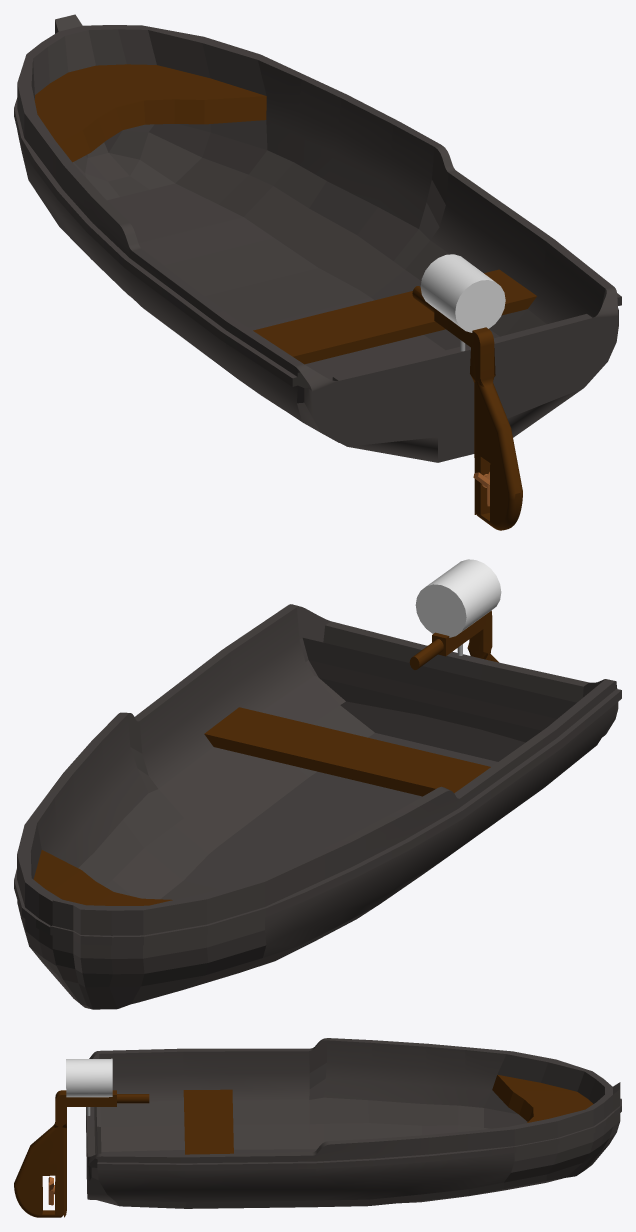
Rendered from Boot 1.fbx.
3 renders of one model, top to bottom at view 1: azimuth 30°, elevation 25°; view 2: azimuth 150°, elevation 25°; view 3: azimuth 270°, elevation 25°, orthographic. The views are drawn at different scales.
Visible parts, largest first — view 1: pCube3, pCube9; view 2: pCube3, pCube9; view 3: pCube3, pCube9.
Part boxes in pixels (left/top/right/bottom): pCube3: left=14, top=14, right=621, bottom=462; pCube9: left=412, top=254, right=522, bottom=530; pCube3: left=14, top=604, right=621, bottom=1009; pCube9: left=409, top=559, right=501, bottom=669; pCube3: left=86, top=1038, right=621, bottom=1208; pCube9: left=14, top=1058, right=149, bottom=1217.
Bounding box in the file's own units: 24.58 × 16.09 × 56.57.
